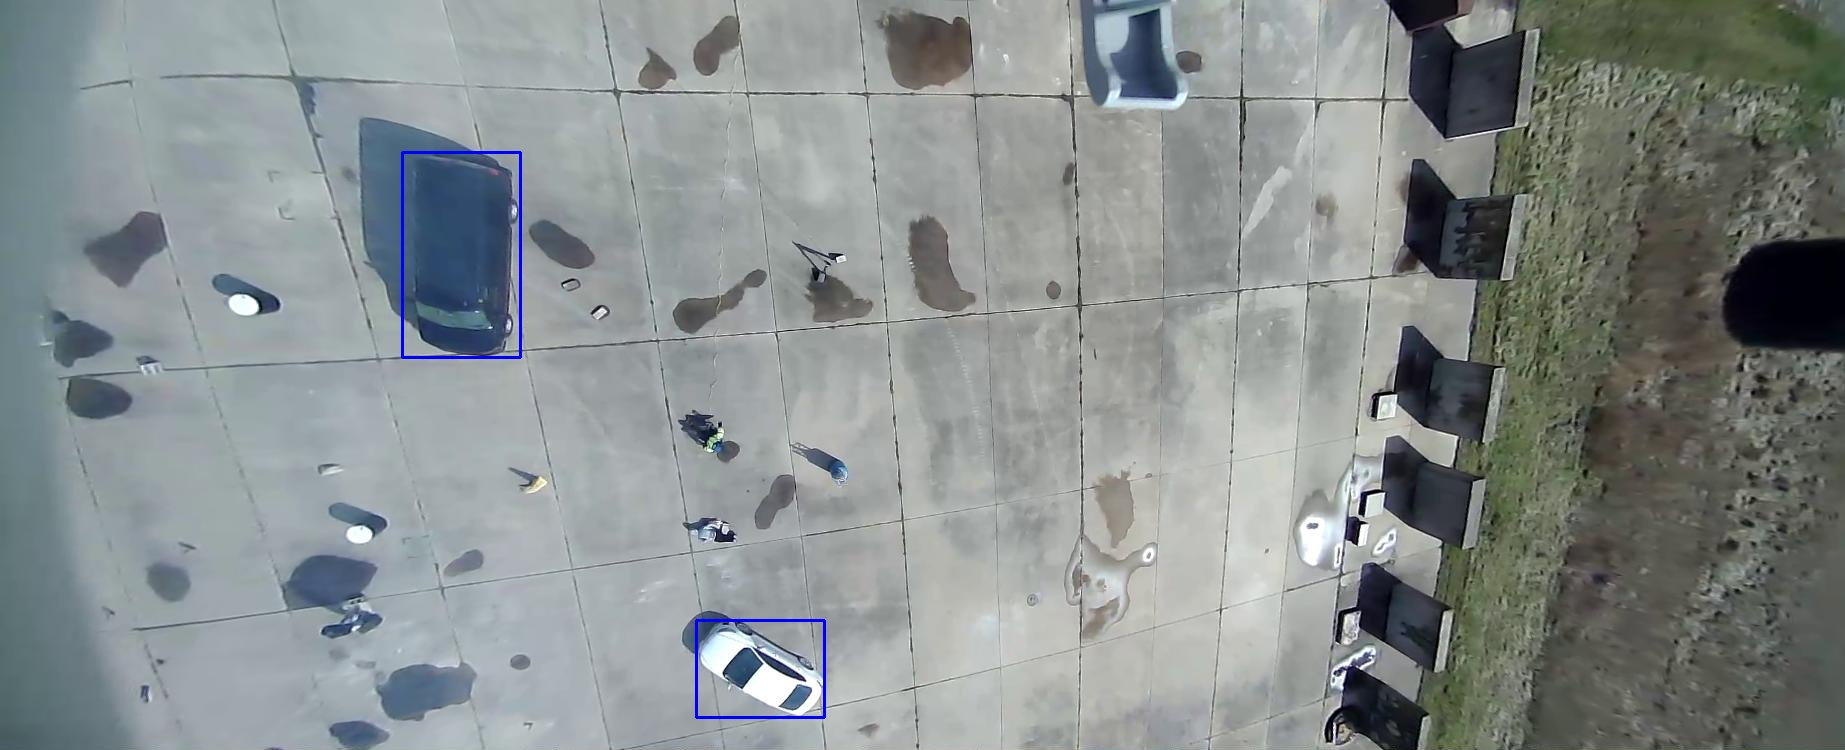vehicle: (152, 401, 357, 520), (620, 696, 717, 750)
